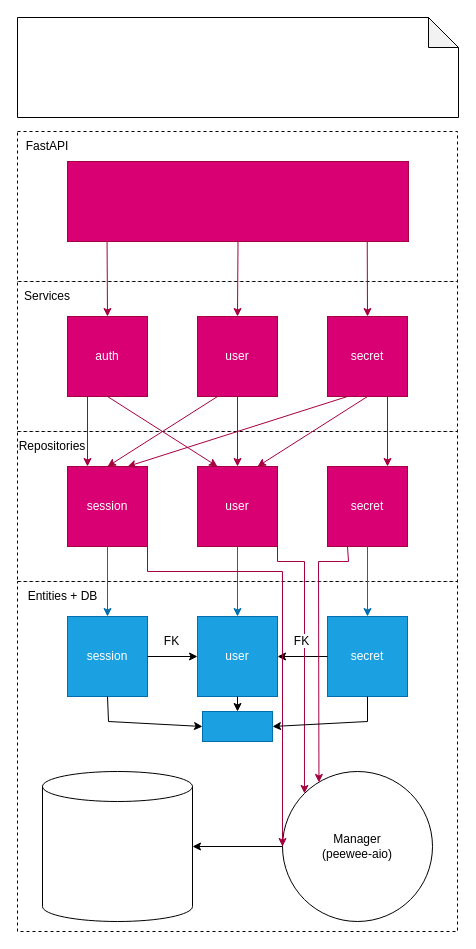
Image size: 476x949. Some labels were removed from this diagram. The shapes that lost their labels are listed below. From the top down, each one's centre as x and y in pixels, then its label:
point 237,67: APP-diogram Sync code - blue Async code - red
point 237,201: HTTP API
point 237,726: Model (peewee)
point 117,846: ORM (peewee)
